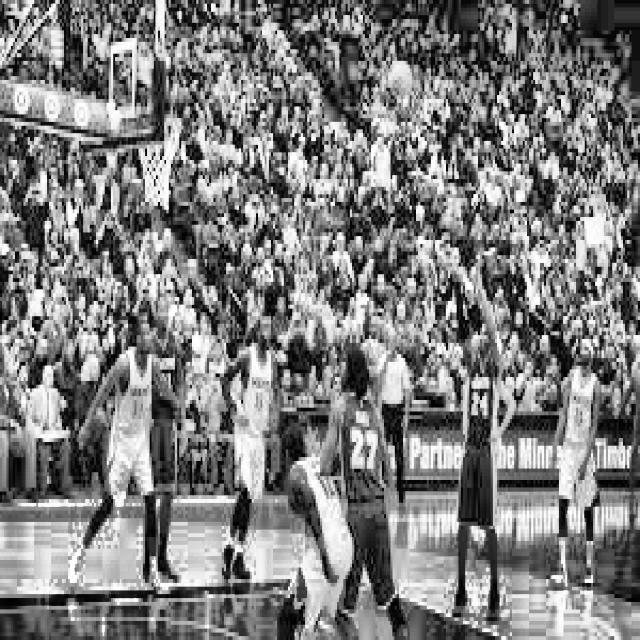Basketball: (390, 61, 414, 99)
